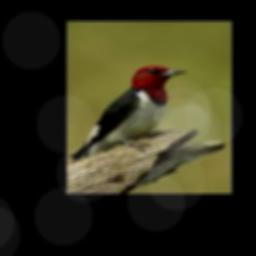Woodpecker: (70, 65, 187, 161)
